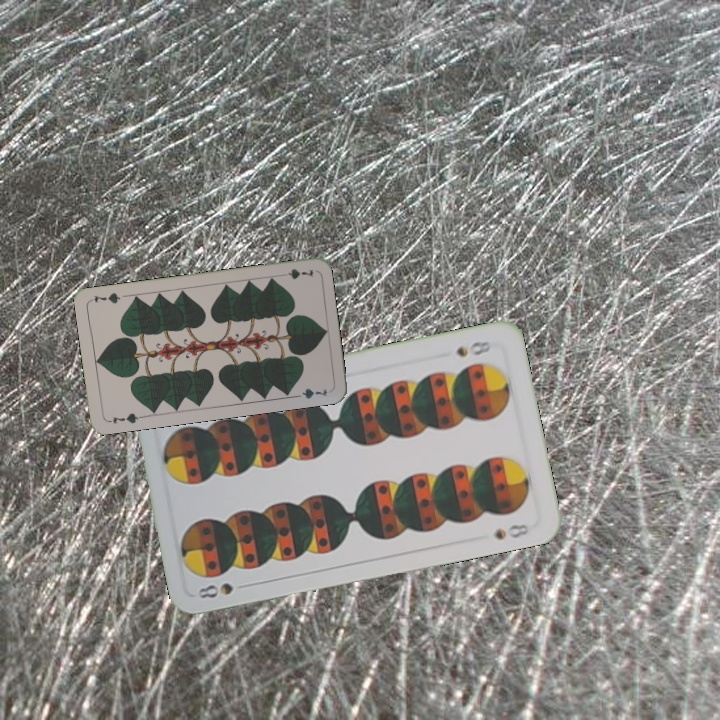G7: (275, 265, 316, 282), (105, 409, 145, 426)
S8: (193, 578, 236, 601), (452, 337, 493, 360)
